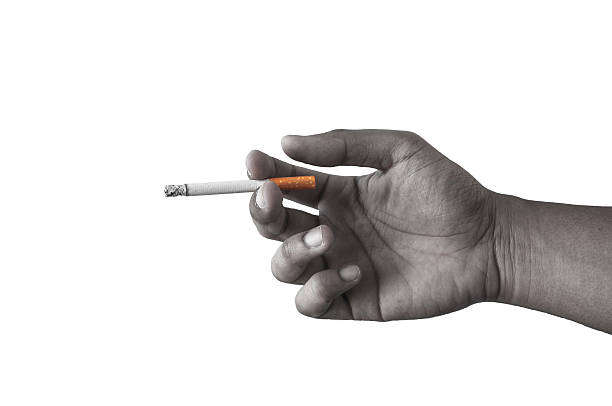cigarette: (161, 172, 320, 197)
